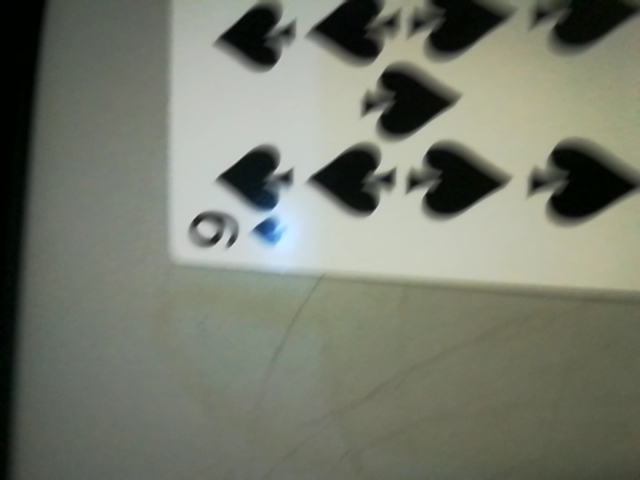ht 9: (169, 181, 297, 268)
